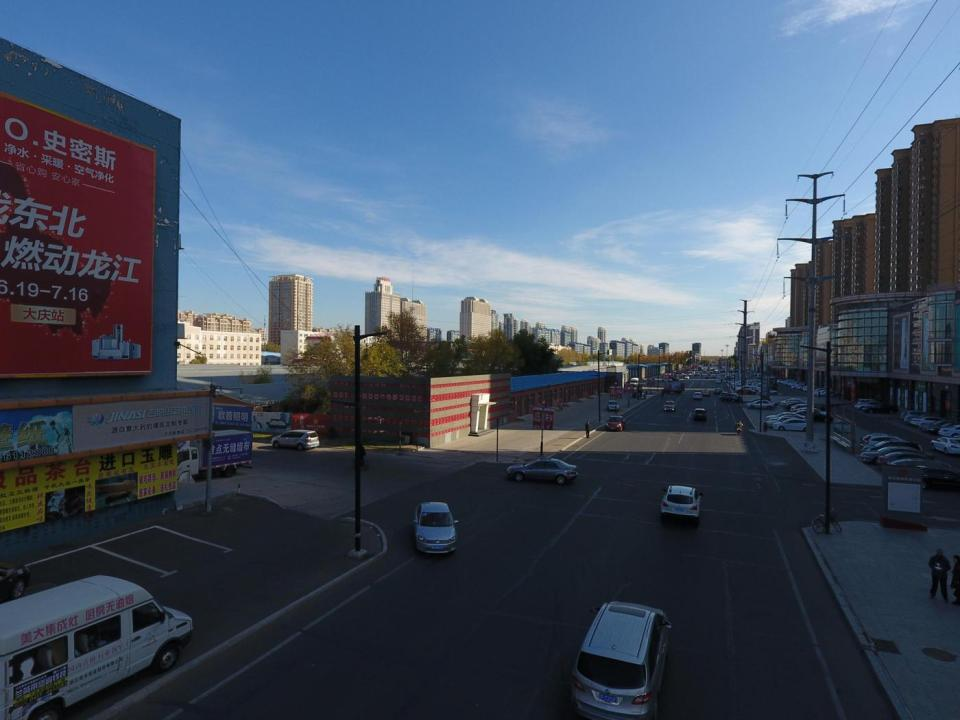bus: (0, 572, 194, 720), (630, 378, 639, 387)
car: (568, 600, 670, 718), (414, 500, 456, 554), (506, 457, 578, 484), (877, 452, 950, 477), (902, 465, 960, 496), (660, 485, 702, 526), (860, 446, 922, 467), (860, 434, 909, 458), (861, 441, 920, 459), (271, 429, 319, 450), (911, 414, 953, 433), (929, 436, 960, 457), (919, 418, 957, 434), (772, 418, 811, 432), (901, 410, 935, 425), (926, 422, 960, 435), (767, 412, 801, 425), (793, 407, 827, 420), (783, 399, 817, 412), (785, 401, 818, 414), (780, 398, 813, 411), (861, 403, 898, 414), (767, 416, 803, 427), (791, 407, 824, 419), (790, 404, 823, 416), (797, 412, 831, 423), (904, 414, 936, 425), (856, 401, 888, 412), (605, 415, 625, 432), (939, 424, 960, 439), (748, 398, 778, 408), (747, 401, 774, 410), (857, 399, 881, 409), (720, 393, 742, 403), (693, 408, 706, 421), (736, 388, 756, 396), (735, 386, 755, 394), (758, 388, 777, 396), (607, 400, 620, 411), (814, 390, 832, 397), (665, 401, 676, 412), (785, 380, 800, 388), (791, 382, 806, 389), (820, 391, 837, 397), (814, 388, 828, 395), (797, 384, 811, 391), (792, 383, 806, 390), (788, 380, 802, 387), (800, 386, 815, 392), (803, 386, 817, 392), (666, 376, 679, 382), (693, 392, 702, 400), (702, 388, 710, 397), (660, 377, 672, 382), (720, 392, 729, 398), (714, 388, 721, 394), (716, 378, 721, 384), (684, 375, 689, 379), (716, 377, 721, 381), (717, 376, 722, 380), (716, 374, 721, 378), (705, 375, 709, 379), (711, 375, 715, 378), (691, 371, 695, 374), (716, 371, 719, 374), (696, 372, 699, 375), (695, 374, 698, 376), (707, 372, 709, 374), (710, 372, 712, 374)
truck: (171, 428, 253, 483), (664, 382, 685, 394)
